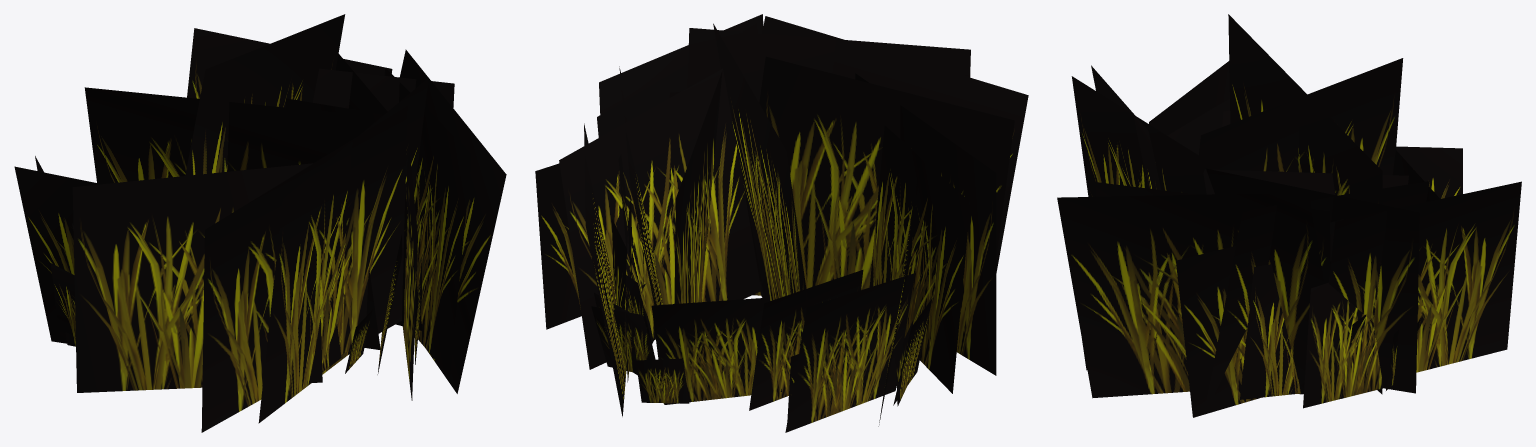
Rendered from grass.glb.
3 views of the same model, side by side, from view 1: azimuth 30°, elevation 25°; view 2: azimuth 150°, elevation 25°; view 3: azimuth 270°, elevation 25° (orthographic). The views are drawn at different scales.
Parts seen in each view (by area): view 1: Material; view 2: Material; view 3: Material.
Boxes of the visible parts, x1,y1,x2,y2 form: Material: (14, 14, 506, 432); Material: (535, 14, 1028, 432); Material: (1057, 14, 1521, 417).
Bounding box in the file's own units: 0.0197 × 0.015 × 0.0209.
1 material, 1 textured.
